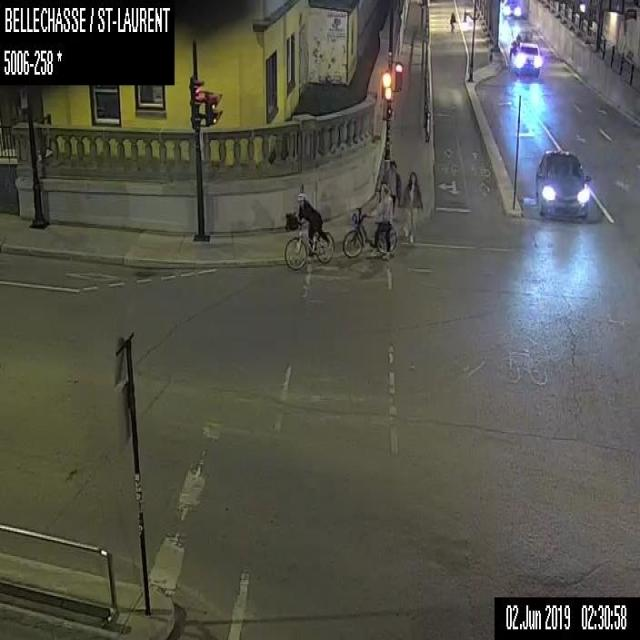cyclist: (282, 191, 334, 268), (342, 185, 396, 256), (449, 11, 455, 32)
pedestrian: (402, 171, 421, 240), (386, 160, 399, 212)
vehicle: (534, 150, 590, 217), (509, 31, 540, 77), (502, 0, 522, 16)
